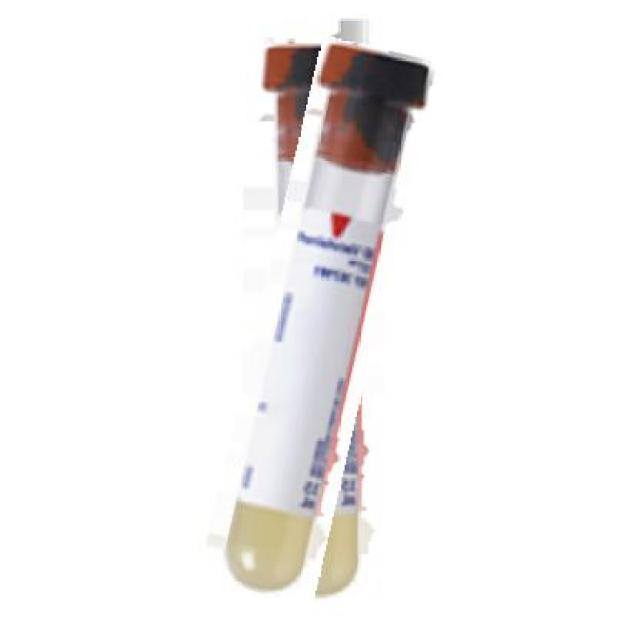Experimental-tube: (228, 40, 407, 602)
